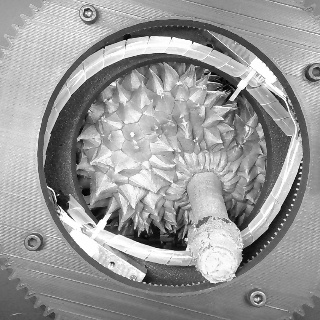base: (182, 167, 225, 202)
end: (199, 245, 238, 282)
